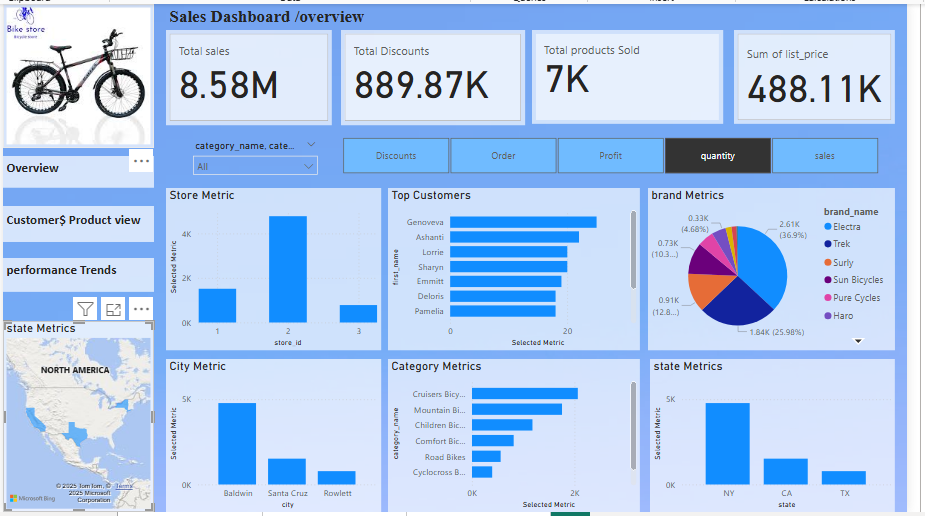

Layout of this report page (visuals, bound fields, positions):
{"tool":"powerbi","page":{"name":"Duplicate of Page 1","canvas":[1280,720],"ordinal":0},"visuals":[{"type":"cardVisual","fields":{"Data":["MEASURE.Total Discounts"]},"box":[479.1,36.9,260.8,134.6],"z":0},{"type":"cardVisual","fields":{"Data":["MEASURE.Total products Sold"]},"box":[749.8,36.9,270.7,133.2],"z":1000},{"type":"cardVisual","fields":{"Data":["udfproductInYear.list_price"]},"box":[1036.1,36.9,228.2,133.2],"z":2000},{"type":"cardVisual","fields":{"Data":["MEASURE.Total sales"]},"box":[231,36.9,235.3,134.6],"z":3000},{"type":"textbox","box":[231,0,314.6,46.8],"z":4000},{"type":"columnChart","title":"Store Metric  ","fields":{"Category":["sales orders.store_id"],"Y":["MEASURE.Selected Metric"]},"box":[231,260.8,304.7,229.6],"z":5000},{"type":"slicer","fields":{"Values":["Metric Selector. Metric"]},"box":[456.8,183.2,807.7,63.8],"z":6000},{"type":"clusteredBarChart","title":"Category Metrics","fields":{"Category":["production categories.category_name"],"Y":["MEASURE.Selected Metric"]},"box":[545.7,503.1,357.2,216.9],"z":7000},{"type":"columnChart","title":"state Metrics","fields":{"Category":["sales customers.state"],"Y":["MEASURE.Selected Metric"]},"box":[917,503.1,347.2,216.9],"z":8000},{"type":"clusteredBarChart","title":"Top Customers","fields":{"Category":["sales customers.first_name"],"Y":["MEASURE.Selected Metric"]},"box":[545.7,260.8,357.2,229.6],"z":9000},{"type":"columnChart","title":" City Metric","fields":{"Category":["sales stores.city"],"Y":["MEASURE.Selected Metric"]},"box":[231,503.1,304.7,216.9],"z":10000},{"type":"pieChart","title":"brand Metrics","fields":{"Category":["production brands.brand_name"],"Y":["MEASURE.Selected Metric"]},"box":[914.5,260.4,350.4,230.1],"z":11000},{"type":"slicer","fields":{"Values":["production categories.category_name","production categories.category_name"]},"box":[259.4,187.1,197,56.7],"z":12000},{"type":"textbox","box":[0,215.4,214,45.4],"z":13000},{"type":"textbox","box":[0,286.3,214,51],"z":14000},{"type":"textbox","box":[0,360,214,48.2],"z":15000},{"type":"image","box":[0,0,214,204.1],"z":16000},{"type":"filledMap","title":"state Metrics","fields":{"Category":["sales customers.state"]},"box":[0,449.3,214,270.7],"z":17000}]}

Visuals, with their boxes on the page's 1280x720 design canvas (x1, y1, x2, y2). These are canvas units, not pixel positions in the 925x516 screenshot, which may show the page scaled, cropped or inside an application window:
cardVisual - MEASURE.Total Discounts: <box>479,37,740,172</box>
cardVisual - MEASURE.Total products Sold: <box>750,37,1020,170</box>
cardVisual - udfproductInYear.list_price: <box>1036,37,1264,170</box>
cardVisual - MEASURE.Total sales: <box>231,37,466,172</box>
textbox: <box>231,0,546,47</box>
"Store Metric  " columnChart: <box>231,261,536,490</box>
slicer - Metric Selector. Metric: <box>457,183,1264,247</box>
"Category Metrics" clusteredBarChart: <box>546,503,903,720</box>
"state Metrics" columnChart: <box>917,503,1264,720</box>
"Top Customers" clusteredBarChart: <box>546,261,903,490</box>
" City Metric" columnChart: <box>231,503,536,720</box>
"brand Metrics" pieChart: <box>914,260,1265,490</box>
slicer - production categories.category_name x production categories.category_name: <box>259,187,456,244</box>
textbox: <box>0,215,214,261</box>
textbox: <box>0,286,214,337</box>
textbox: <box>0,360,214,408</box>
image: <box>0,0,214,204</box>
"state Metrics" filledMap: <box>0,449,214,720</box>
